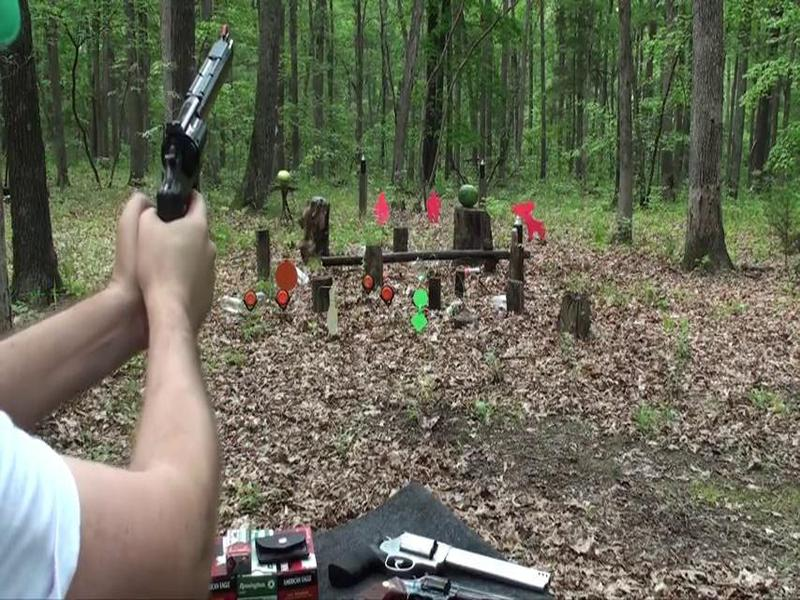Revolver: (137, 21, 238, 246)
